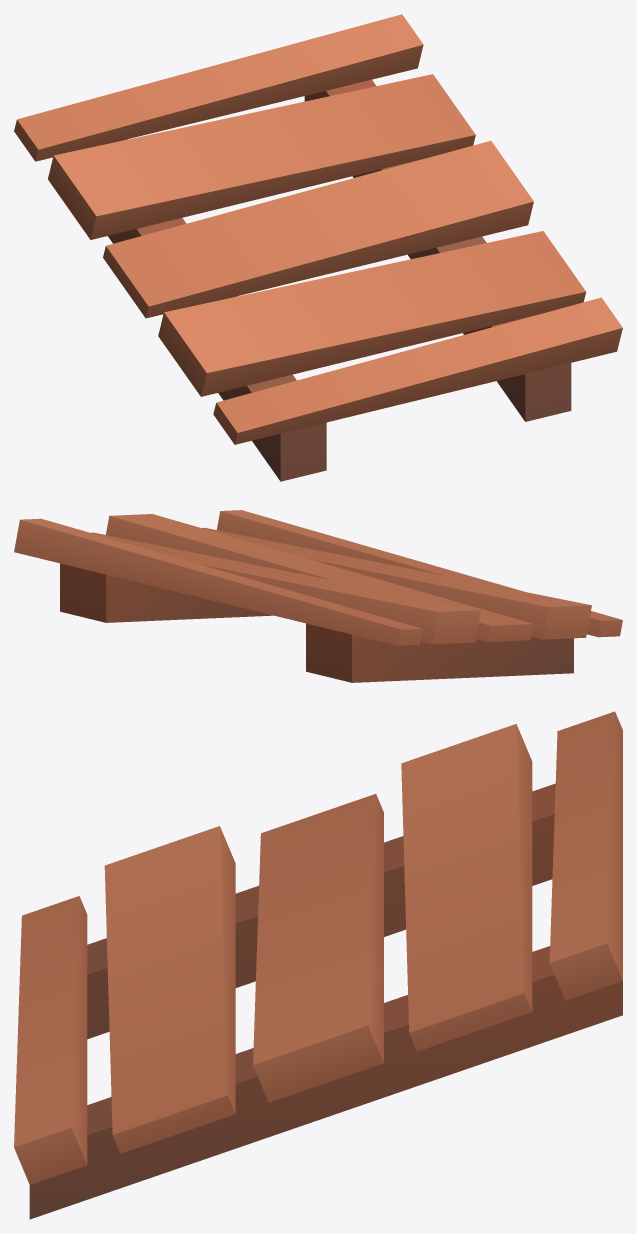
File: ramp_wood.glb
3 views of the same model, one above another, from view 1: azimuth 30°, elevation 25°; view 2: azimuth 150°, elevation 25°; view 3: azimuth 270°, elevation 25° (orthographic). The views are drawn at different scales.
Visible parts, largest first — view 1: ramp_wood; view 2: ramp_wood; view 3: ramp_wood.
Part boxes in pixels (<box>): ramp_wood: <box>14,14,622,481</box>; ramp_wood: <box>14,510,622,682</box>; ramp_wood: <box>14,711,622,1219</box>.
Size of the model in its own units: 1 by 0.5701 by 1.03.
Materials: 1 (1 with a texture image).
